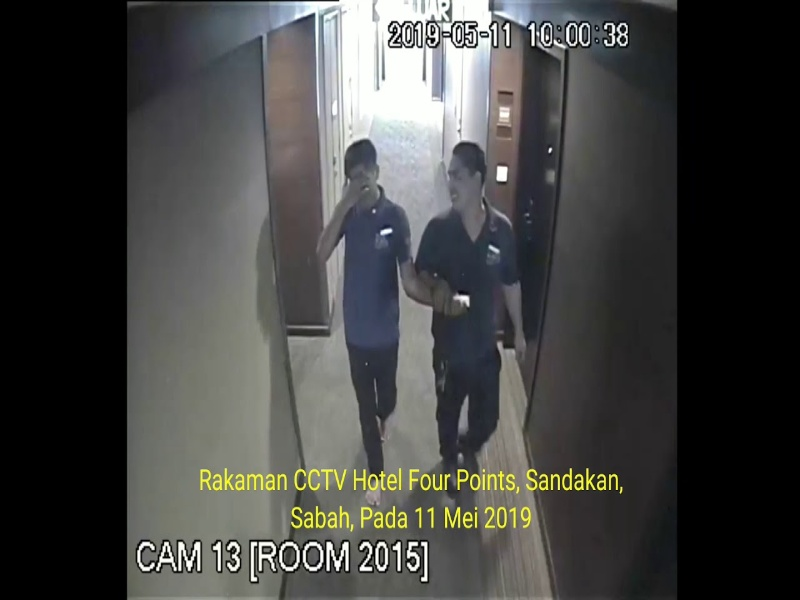person: (310, 134, 424, 513), (416, 139, 534, 502)
